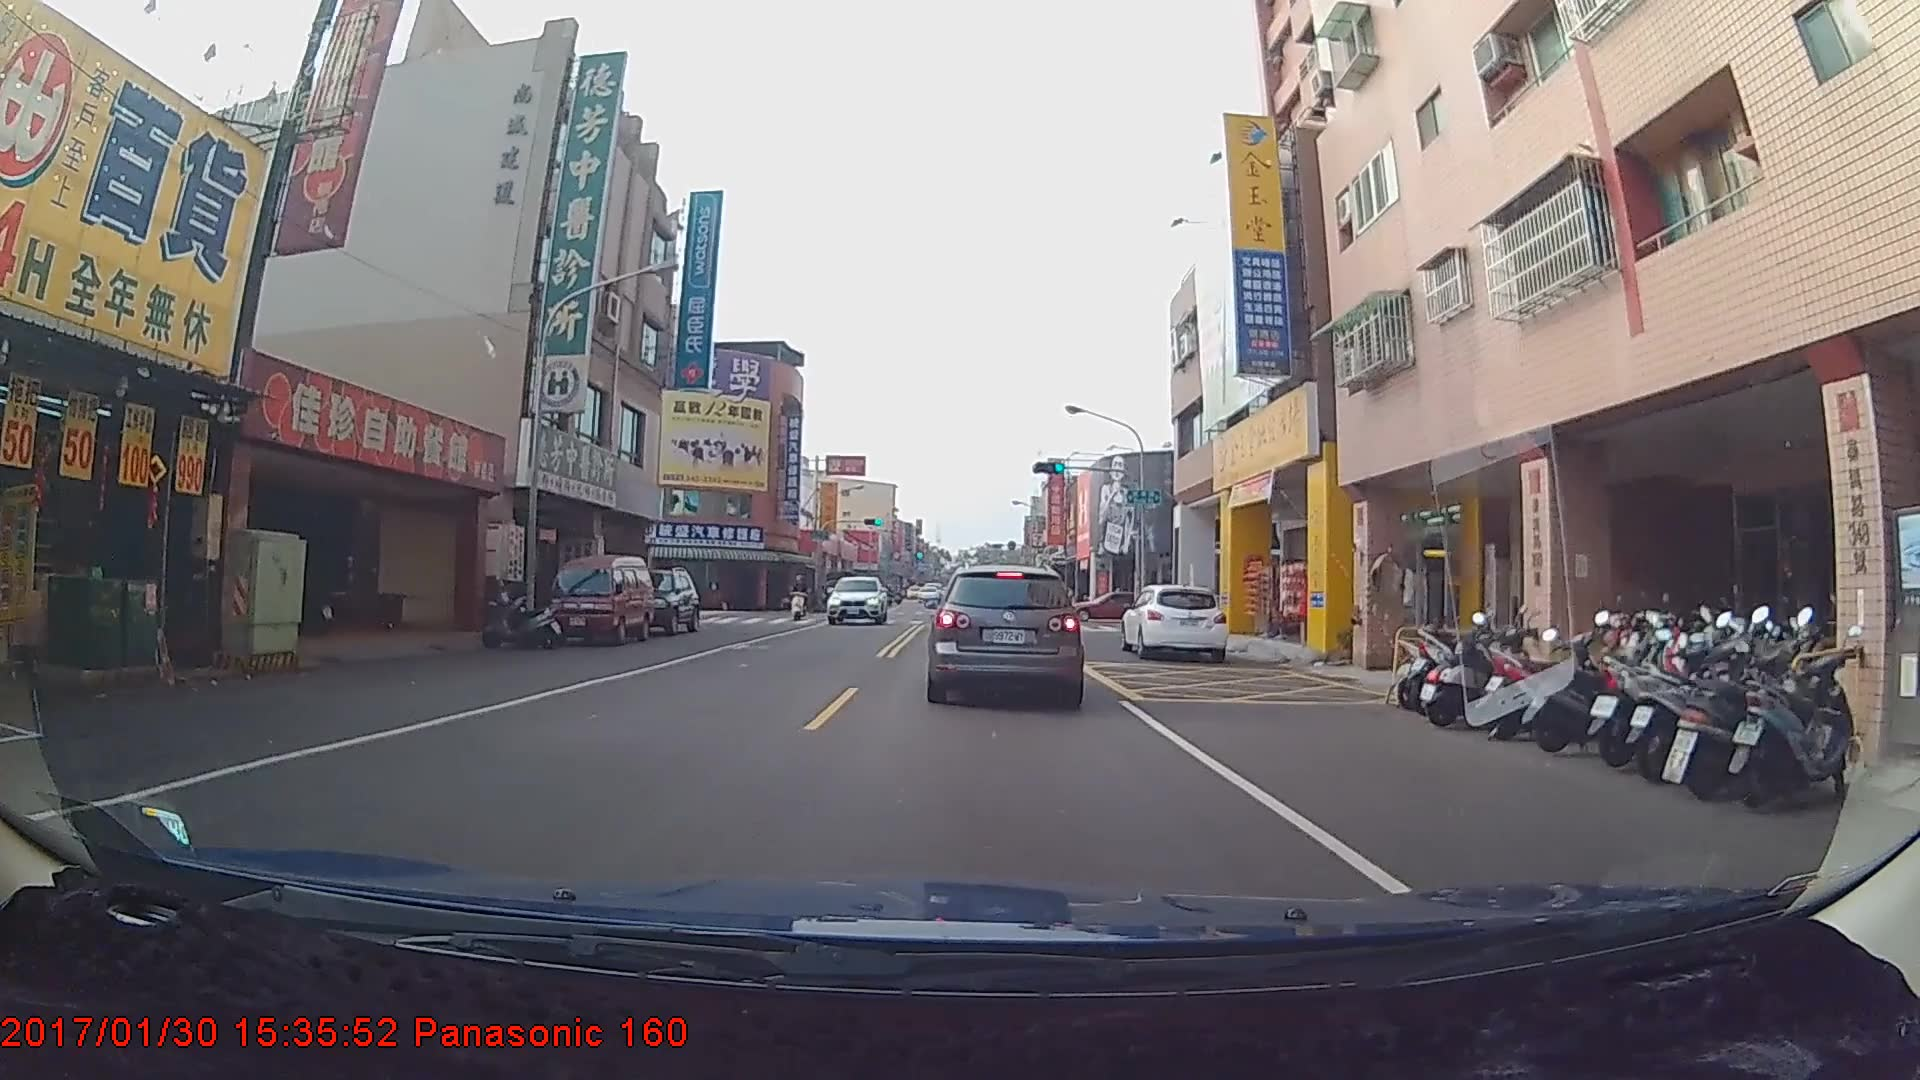rider: (789, 573, 815, 622)
vehicle: (929, 561, 1083, 704), (545, 554, 654, 646), (1120, 581, 1227, 663), (618, 564, 701, 634), (824, 568, 883, 619), (1063, 593, 1158, 622)
